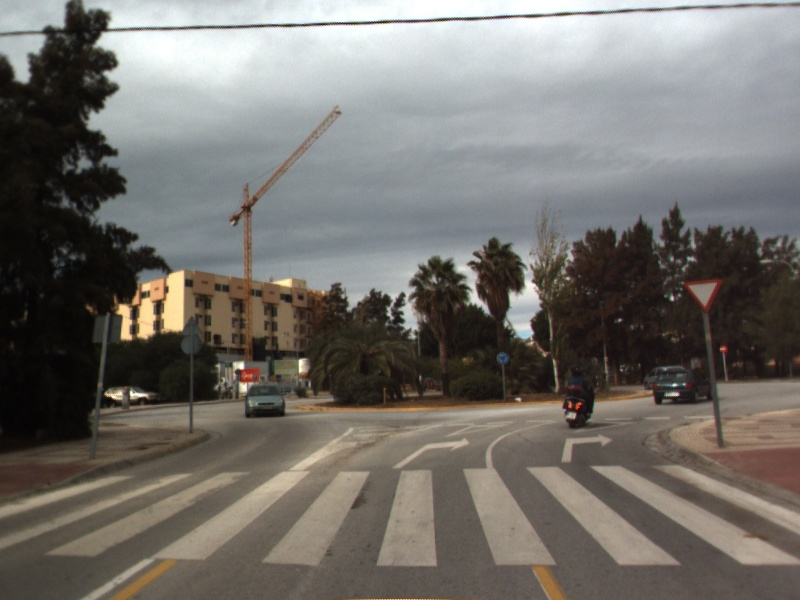RIGHT: (390, 435, 472, 471), (559, 431, 615, 465)
